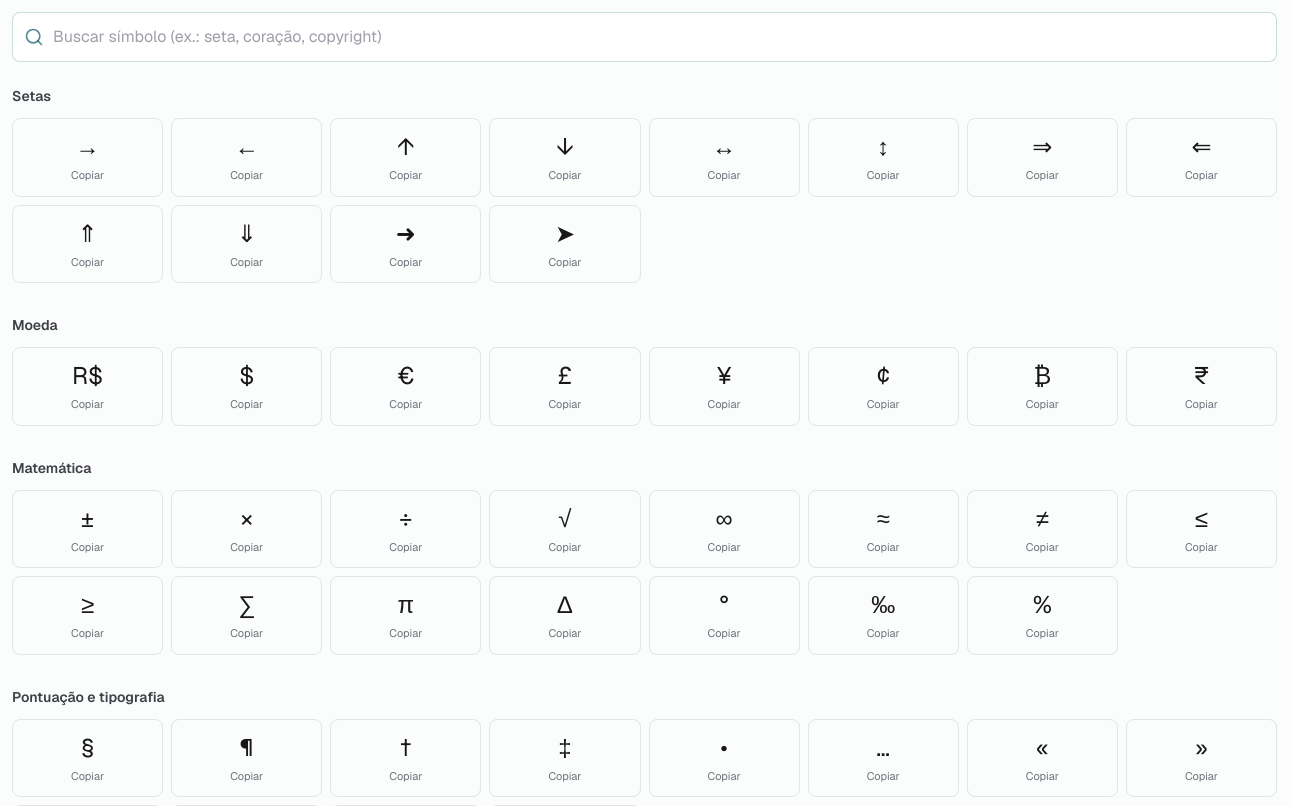
SymbolPickerTool › filtra símbolos ao buscar por nome
Type "seta para a direita" into the search field with placeholder "Buscar símbolo (ex.: seta, coração, copyright)" at {"x": 644, "y": 37}, box [12,12,1277,62]
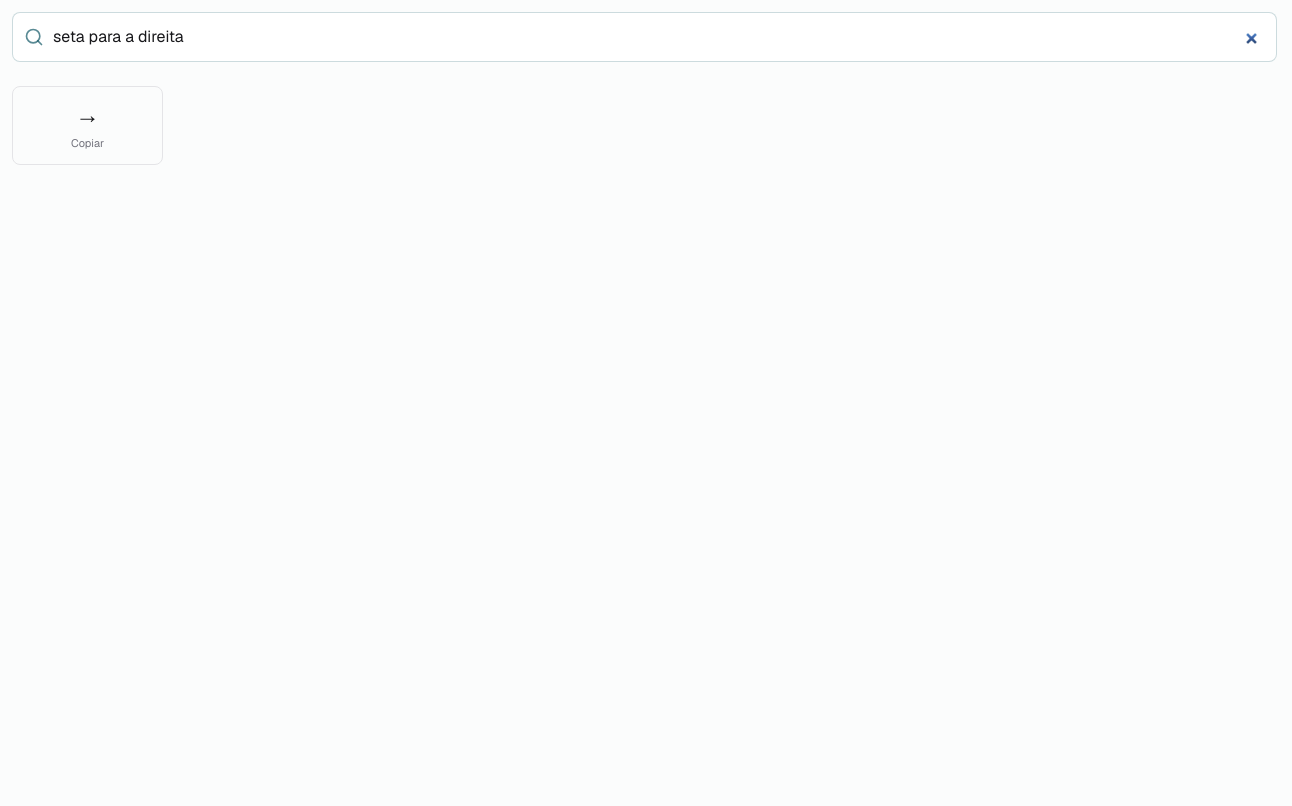
Check: the button titled "seta para a direita" is shown, box [12,86,163,164]
Check: the heading "Setas" is gone
